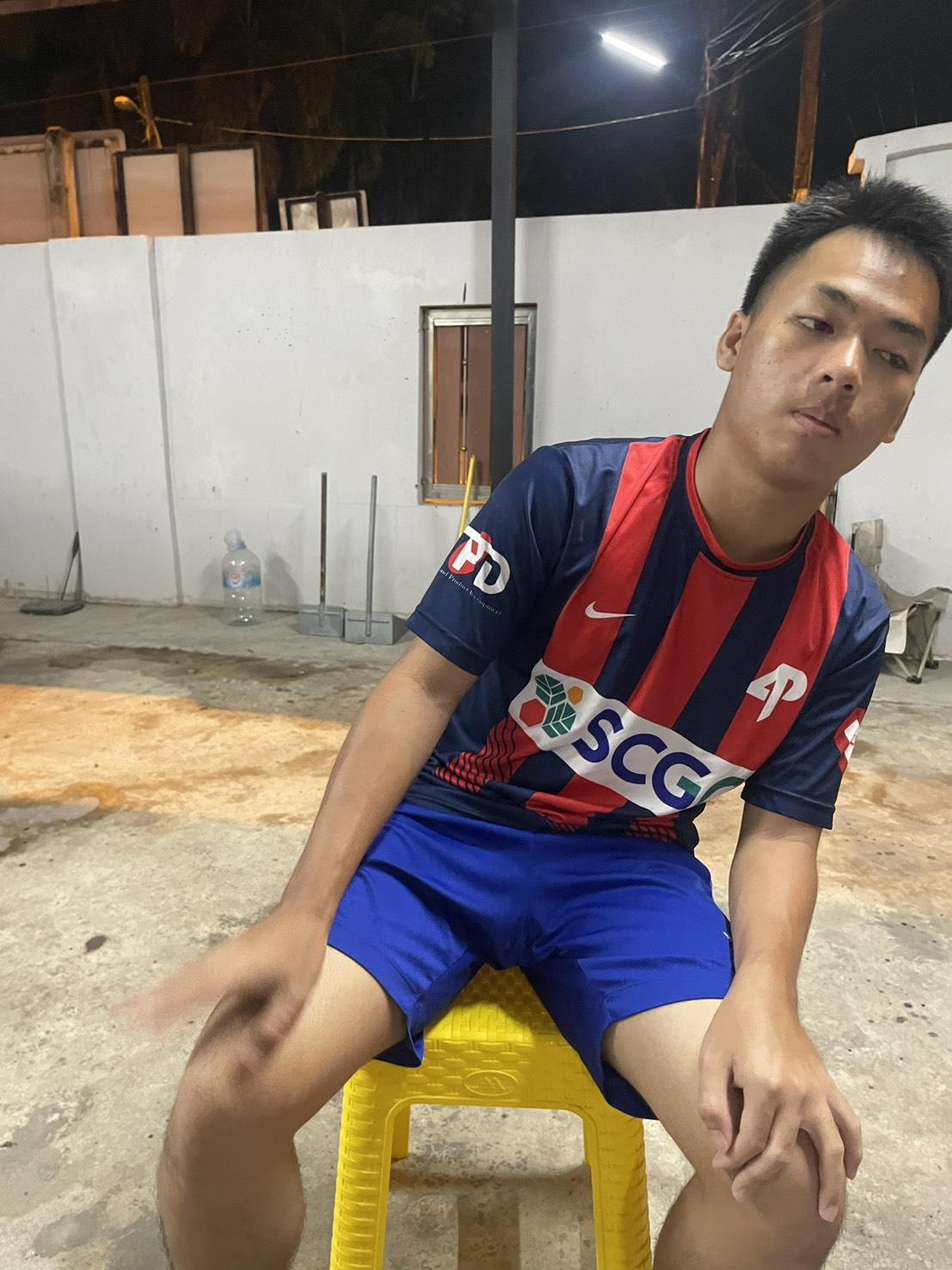BadPosture: (150, 181, 951, 1132)
